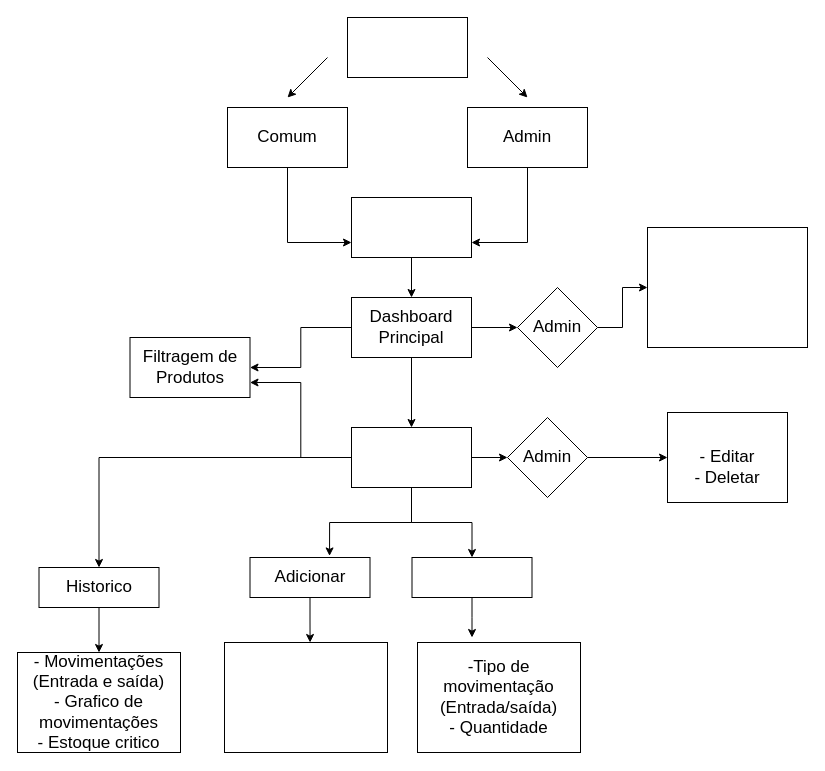
Some shapes in this 825 by 771 pixel diagram are drawn without their labels. The shapes that lost their labels are listed below. From the top down, each one's centre as x and y in pixels, then its label:
At (407,47): "Usuário".
At (411,227): "Login".
At (727,287): "- Criação de novo usuário . Nome . Email Senha . Tipo (Comum ou Admin)".
At (411,457): "Gerenciamento de Produtos".
At (471,577): "Movimentar".
At (306,697): "- Nome - Quantidade - Fabricante - Descrição - Preço".
